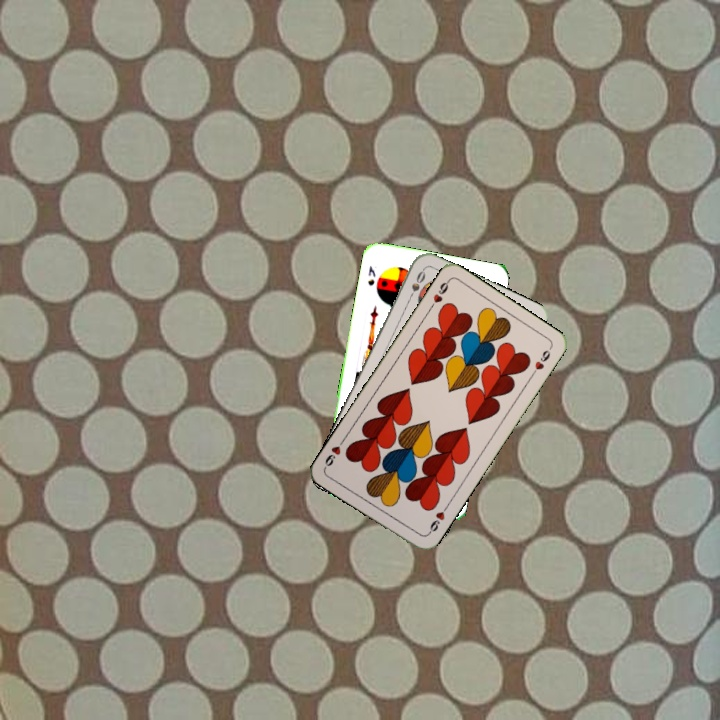H9: (425, 276, 452, 313), (424, 501, 451, 538)
SK: (364, 261, 378, 288)
SO: (404, 265, 428, 304)
